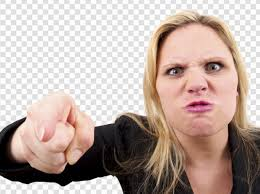Angry: (161, 54, 230, 117)
